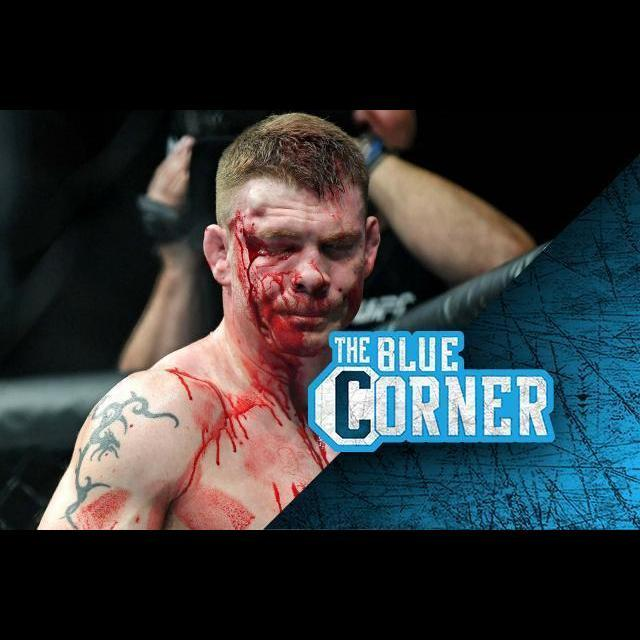blood: (73, 210, 375, 530)
